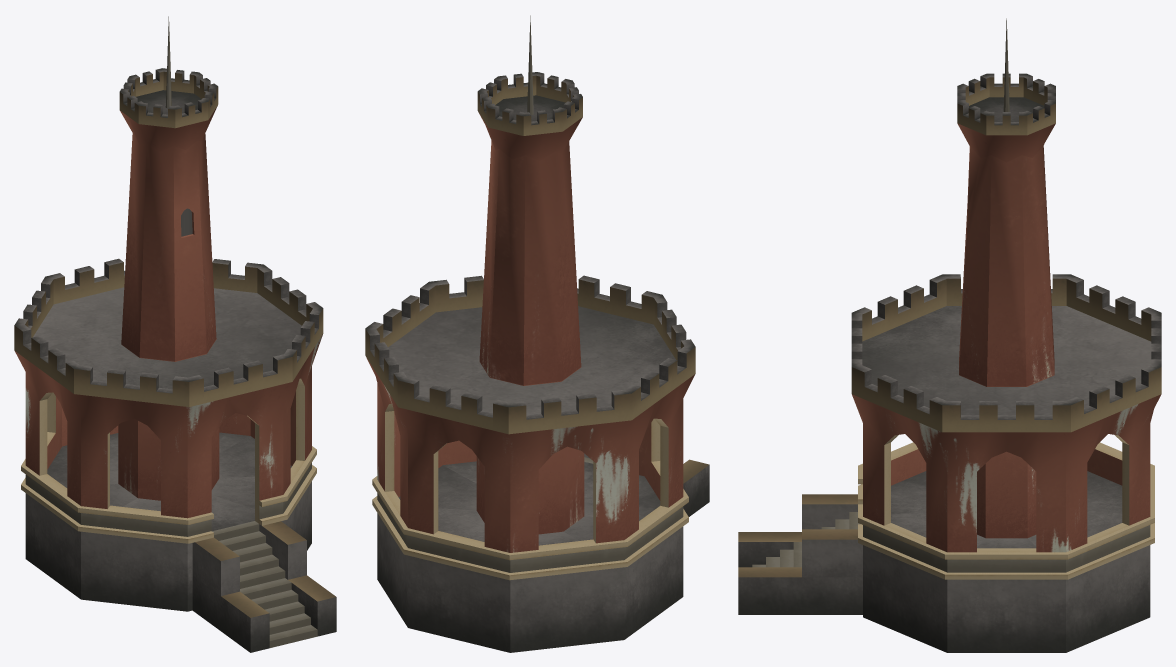
File: Gazebo.fbx
The picture shows the model from 3 angles, left to right: view 1: azimuth 30°, elevation 25°; view 2: azimuth 150°, elevation 25°; view 3: azimuth 270°, elevation 25°; orthographic projection. The views are drawn at different scales.
Visible parts, largest first — view 1: Gazebo; view 2: Gazebo; view 3: Gazebo.
Part boxes in pixels (<box>): Gazebo: <box>14,16,336,652</box>; Gazebo: <box>365,15,709,652</box>; Gazebo: <box>738,18,1161,652</box>.
Bounding box in the file's own units: 559 × 1150 × 763.
